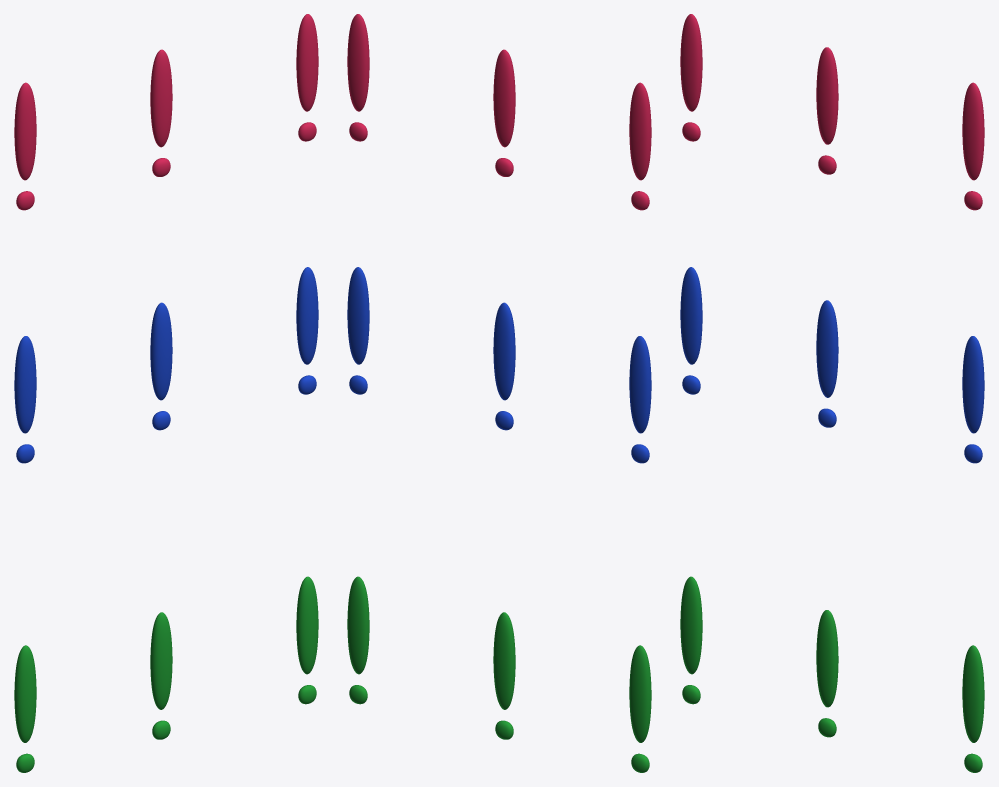
Rendered from !!! Warning.fbx.
3 views of the same model, side by side, from view 1: azimuth 30°, elevation 25°; view 2: azimuth 150°, elevation 25°; view 3: azimuth 330°, elevation 25° (orthographic).
Visible parts, largest first — view 1: Cube.005, Cube.002, Cube.004, Cube.007, Cube.003, Cube.000, Cube.001, Cube.008, Cube.006; view 2: Cube.005, Cube.002, Cube.004, Cube.007, Cube.003, Cube.000, Cube.001, Cube.008, Cube.006; view 3: Cube.006, Cube.005, Cube.002, Cube.004, Cube.007, Cube.003, Cube.000, Cube.008, Cube.001.
Boxes of the visible parts, bbox=[...] form: Cube.005: bbox=[14, 82, 36, 210]; Cube.002: bbox=[296, 14, 318, 141]; Cube.004: bbox=[150, 302, 172, 430]; Cube.007: bbox=[150, 612, 172, 739]; Cube.003: bbox=[14, 336, 36, 463]; Cube.000: bbox=[296, 267, 318, 394]; Cube.001: bbox=[296, 576, 318, 704]; Cube.008: bbox=[14, 645, 36, 772]; Cube.006: bbox=[150, 49, 172, 176]; Cube.005: bbox=[629, 82, 651, 210]; Cube.002: bbox=[347, 14, 369, 141]; Cube.004: bbox=[493, 302, 515, 430]; Cube.007: bbox=[493, 612, 515, 739]; Cube.003: bbox=[629, 336, 651, 463]; Cube.000: bbox=[347, 267, 369, 394]; Cube.001: bbox=[347, 576, 369, 704]; Cube.008: bbox=[629, 645, 651, 772]; Cube.006: bbox=[493, 49, 515, 176]; Cube.006: bbox=[816, 47, 838, 174]; Cube.005: bbox=[680, 14, 702, 141]; Cube.002: bbox=[962, 82, 984, 210]; Cube.004: bbox=[816, 300, 838, 427]; Cube.007: bbox=[816, 610, 838, 737]; Cube.003: bbox=[680, 267, 702, 394]; Cube.000: bbox=[962, 336, 984, 463]; Cube.008: bbox=[680, 576, 702, 704]; Cube.001: bbox=[962, 645, 984, 772].
Bounding box in the file's own units: 3971 × 8650 × 174.
